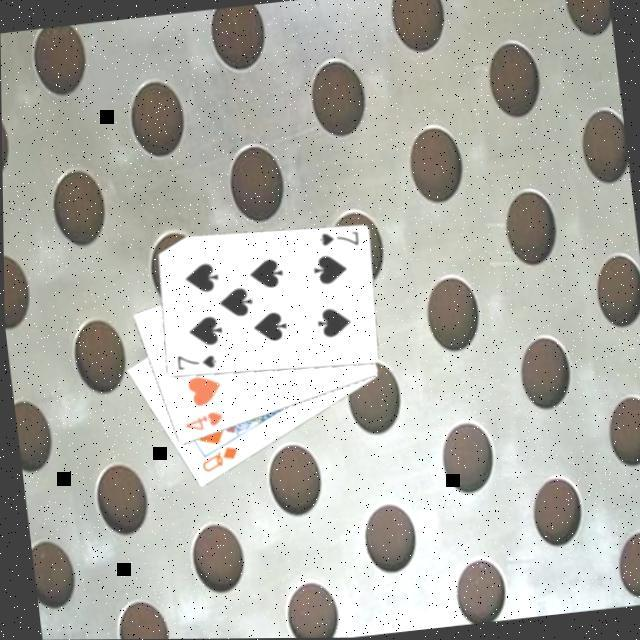4H: (179, 408, 226, 437)
7S: (172, 348, 219, 376), (315, 227, 362, 254)
QD: (196, 443, 242, 478)
